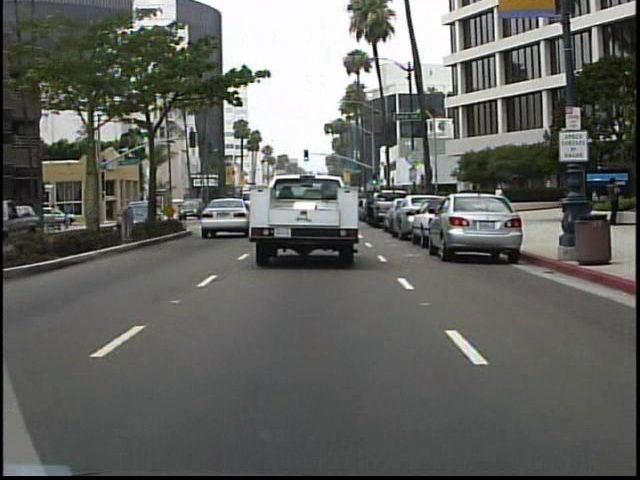person: (603, 173, 623, 229)
